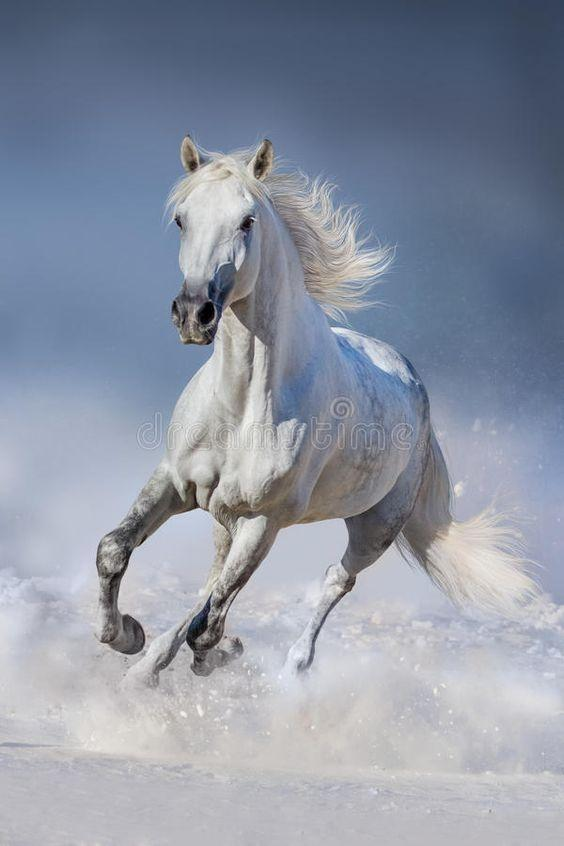horse: (94, 132, 546, 696)
